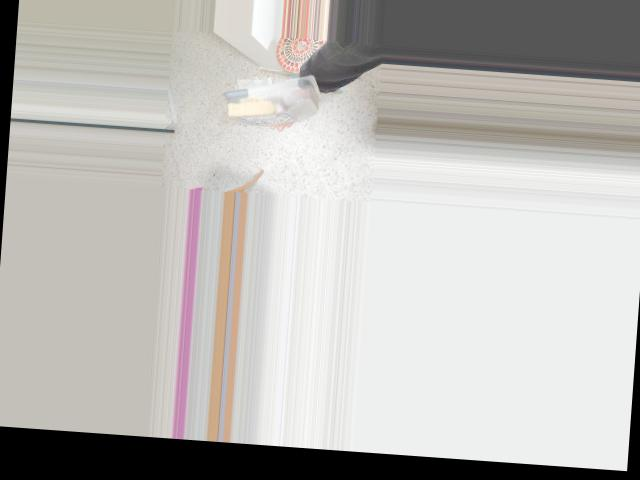cheese: (221, 66, 320, 131)
